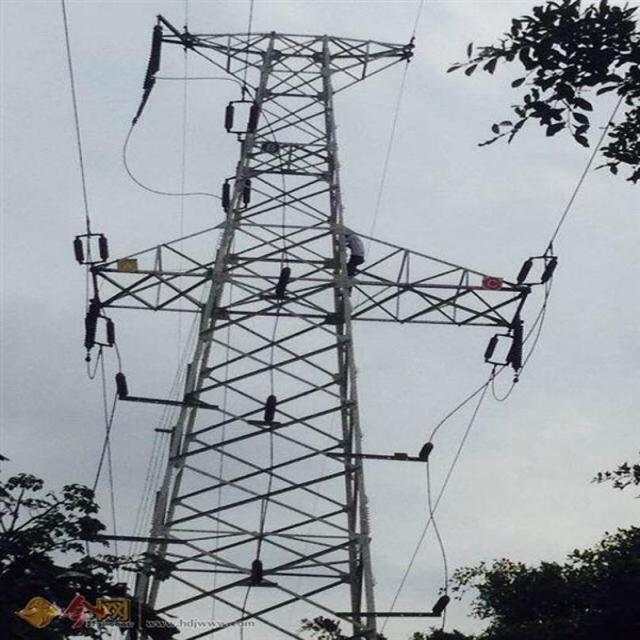non-critical vegetation: (110, 24, 512, 623)
